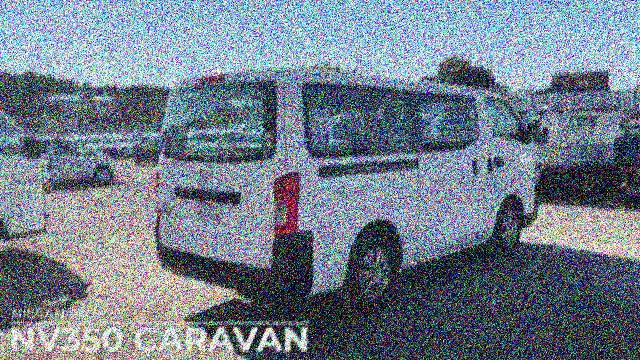van: (149, 65, 538, 304)
